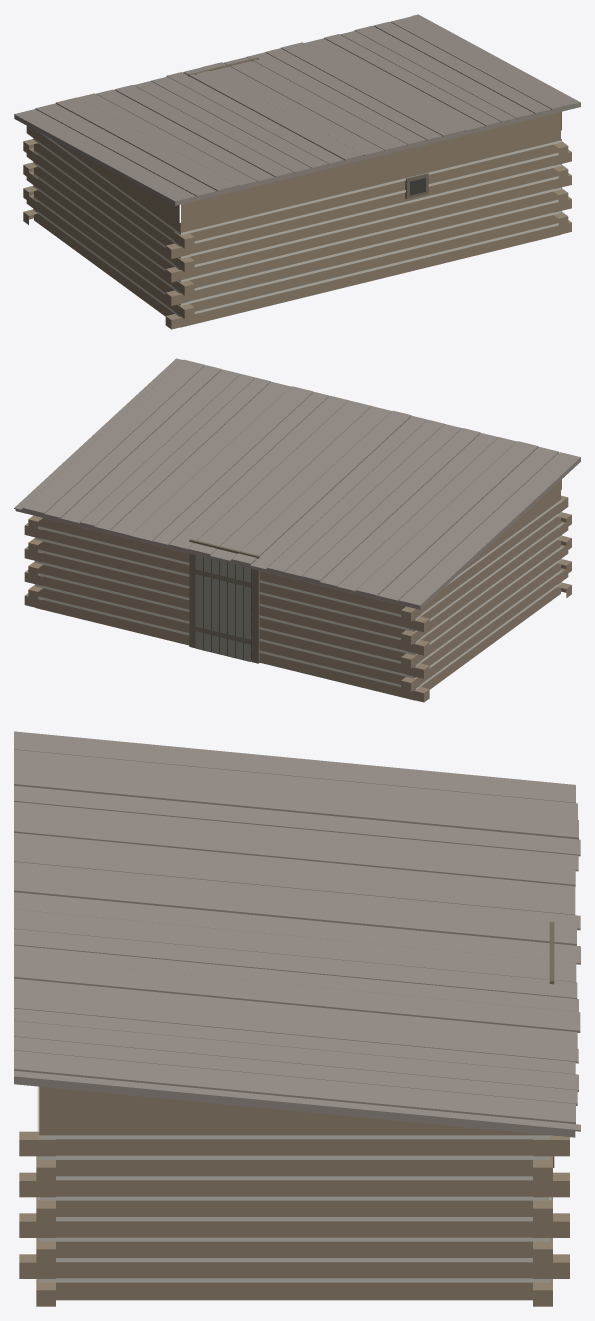
Rendered from estray_pen__pen_1833.glb.
3 renders of one model, top to bottom at view 1: azimuth 30°, elevation 25°; view 2: azimuth 150°, elevation 25°; view 3: azimuth 270°, elevation 25°, orthographic. The views are drawn at different scales.
Parts seen in each view (by area): view 1: estray_pen__pen_1833; view 2: estray_pen__pen_1833; view 3: estray_pen__pen_1833.
Boxes of the visible parts, left/top/right/bottom form: estray_pen__pen_1833: left=14, top=14, right=580, bottom=329; estray_pen__pen_1833: left=14, top=358, right=580, bottom=702; estray_pen__pen_1833: left=14, top=731, right=580, bottom=1306.
Bounding box in the file's own units: 9.75 × 3.11 × 6.77.
1 material, 1 textured.
